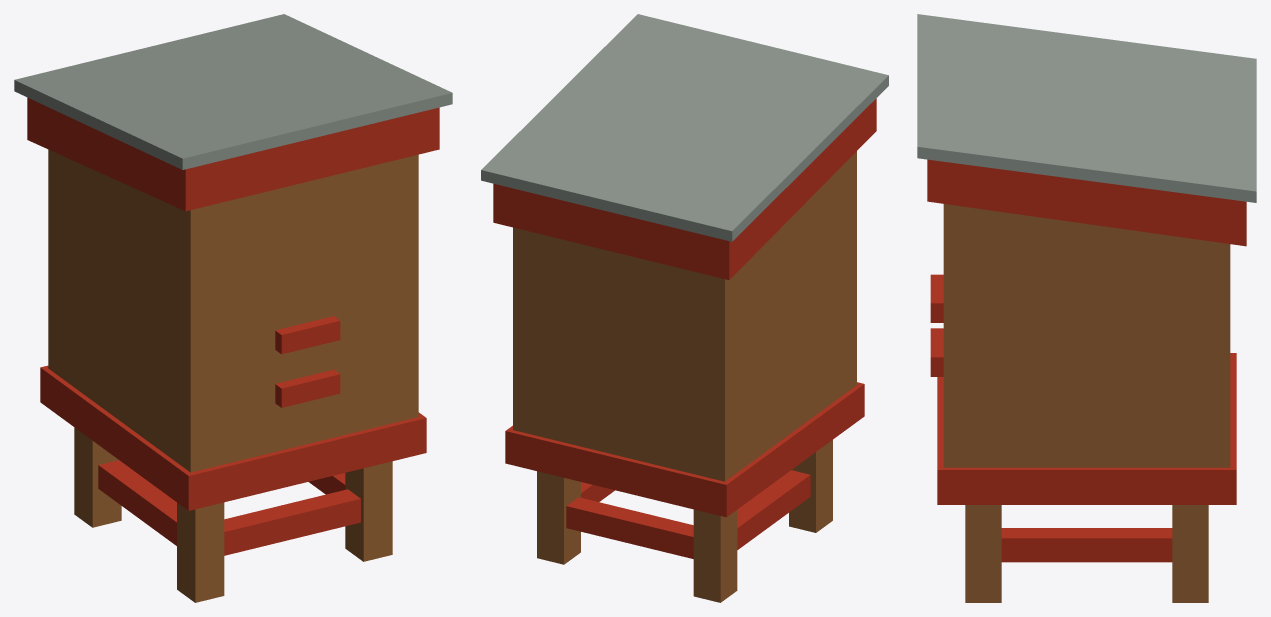
The model's file is Beehive_2.fbx.
3 views of the same model, side by side, from view 1: azimuth 30°, elevation 25°; view 2: azimuth 150°, elevation 25°; view 3: azimuth 270°, elevation 25° (orthographic). The views are drawn at different scales.
Parts seen in each view (by area): view 1: Beehive_2; view 2: Beehive_2; view 3: Beehive_2.
Boxes of the visible parts, box(x1,y1,x2,y2) form: Beehive_2: box(14, 14, 452, 602); Beehive_2: box(481, 14, 888, 602); Beehive_2: box(917, 14, 1256, 602).
Bounding box in the file's own units: 72.58 × 121 × 78.45.
